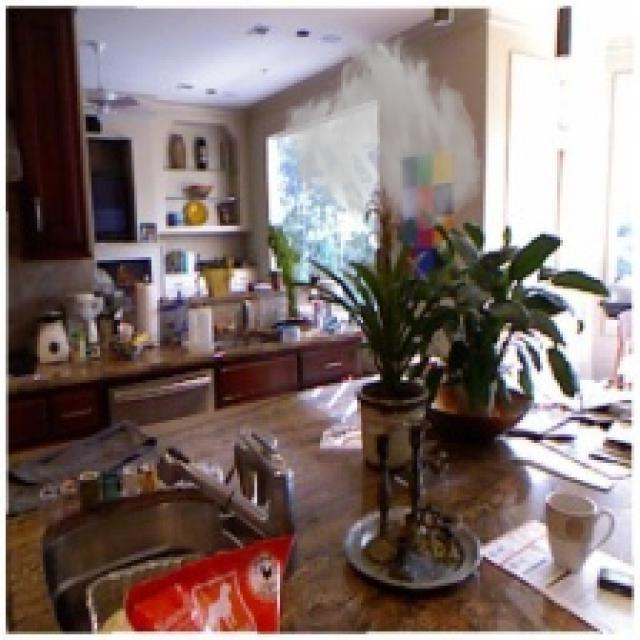Smoke: (280, 26, 486, 234)
